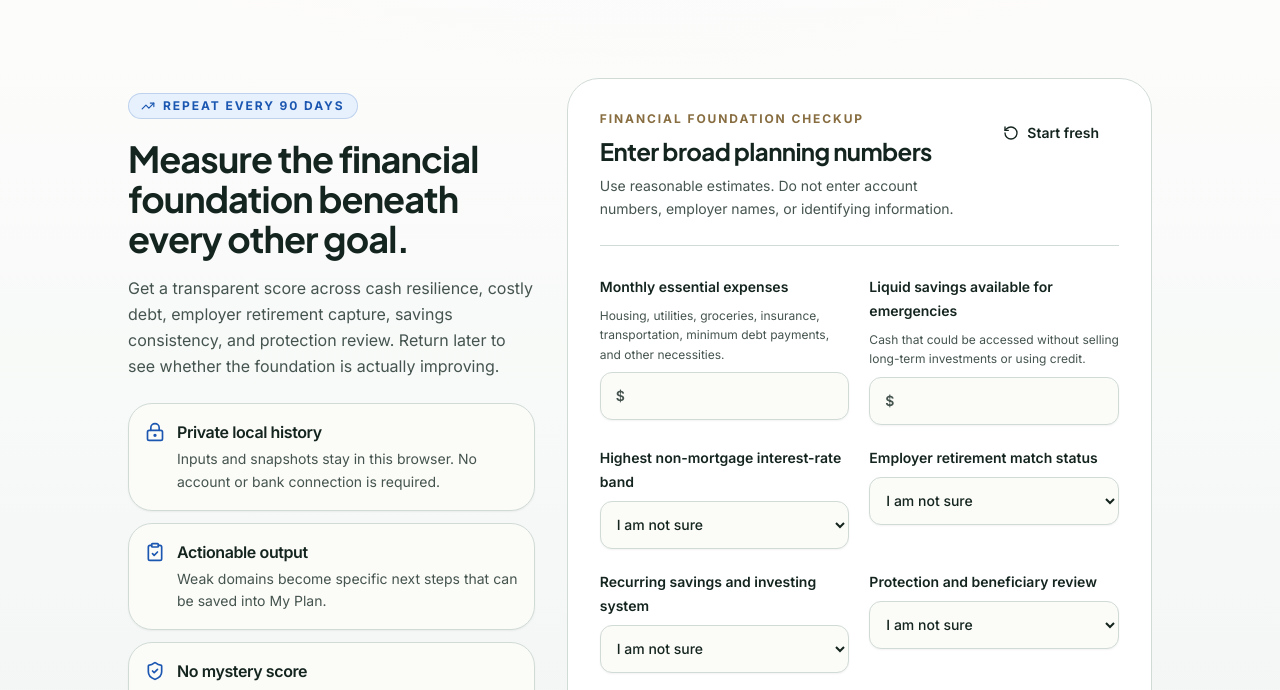
Test: FinancialFoundationCheckup › creates a local baseline with visible domain results and history
In the number field labelled "Monthly essential expenses": coordinates (724, 396) [600,372,849,420], type "4000"
In the number field labelled "Liquid savings available for emergencies": coordinates (994, 400) [869,376,1119,424], type "2000"
Select "Highest rate is above 15%" in the dropdown labelled "Highest non-mortgage interest-rate band": coordinates (724, 524) [600,500,849,548]
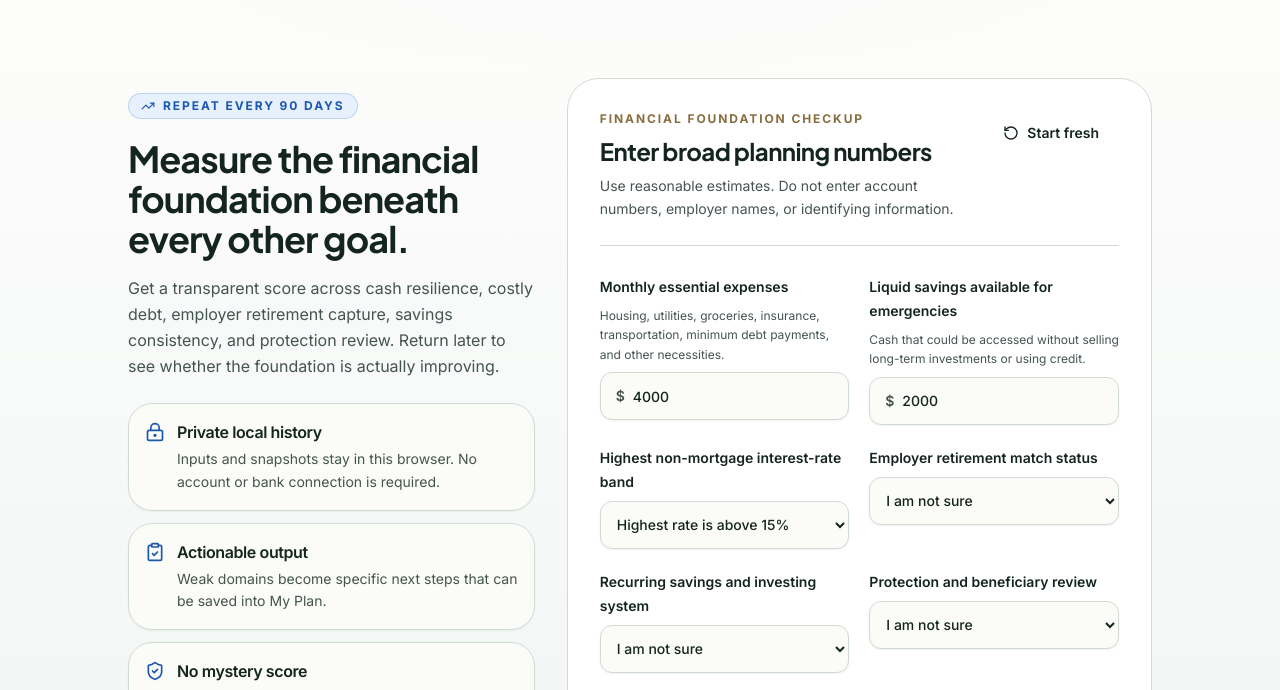
Select "Not contributing" in the dropdown labelled "Employer retirement match status": coordinates (994, 500) [869,476,1119,524]
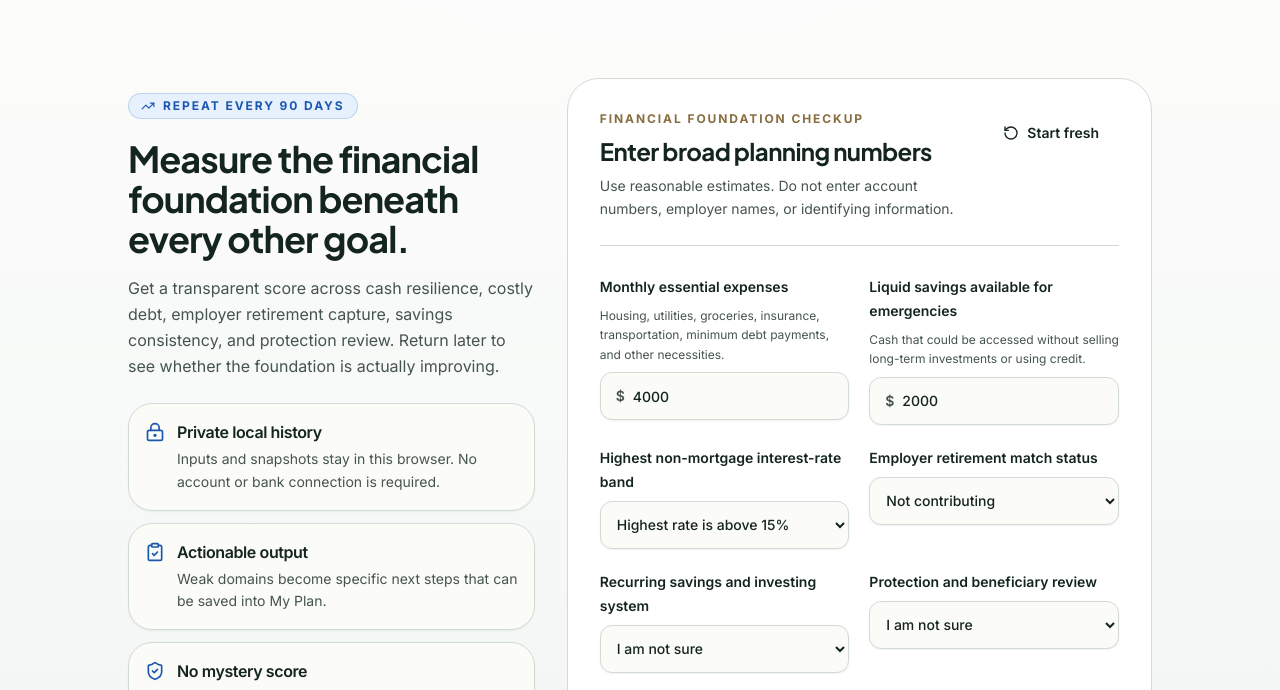
Select "No recurring saving or investing" in the dropdown labelled "Recurring savings and investing system": coordinates (724, 648) [600,624,849,672]
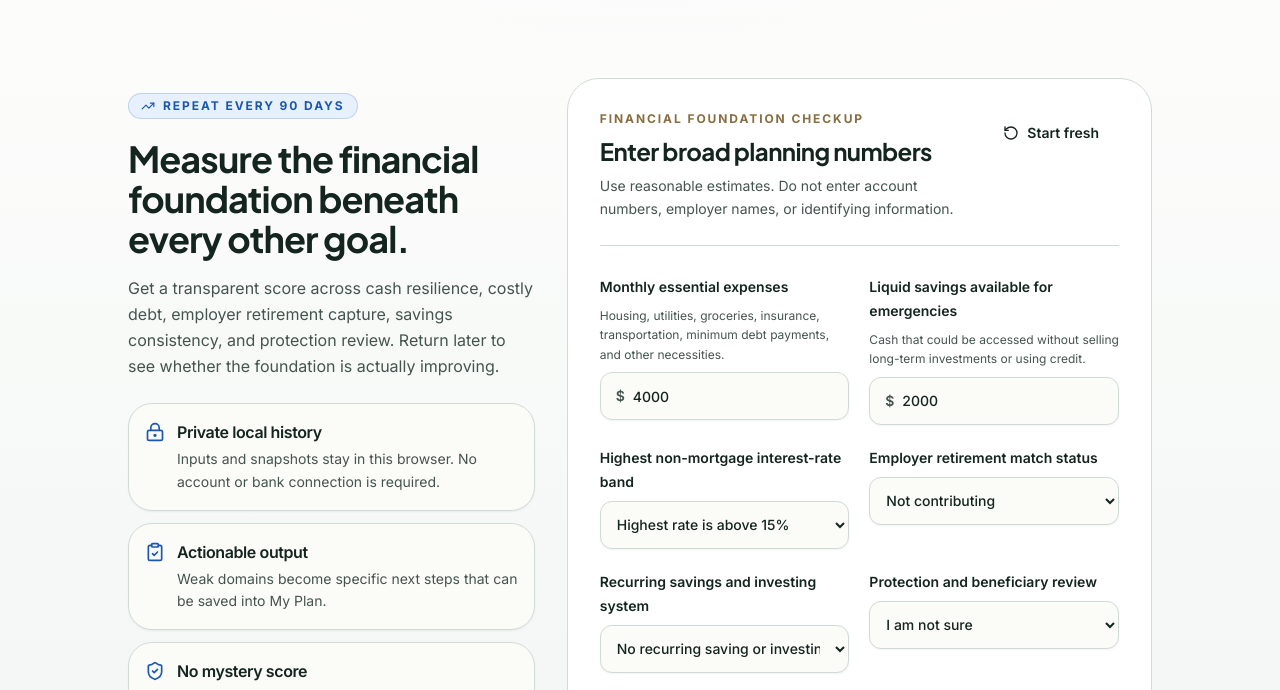
Select "Review is overdue" in the dropdown labelled "Protection and beneficiary review": coordinates (994, 624) [869,600,1119,648]
(page scrolled)
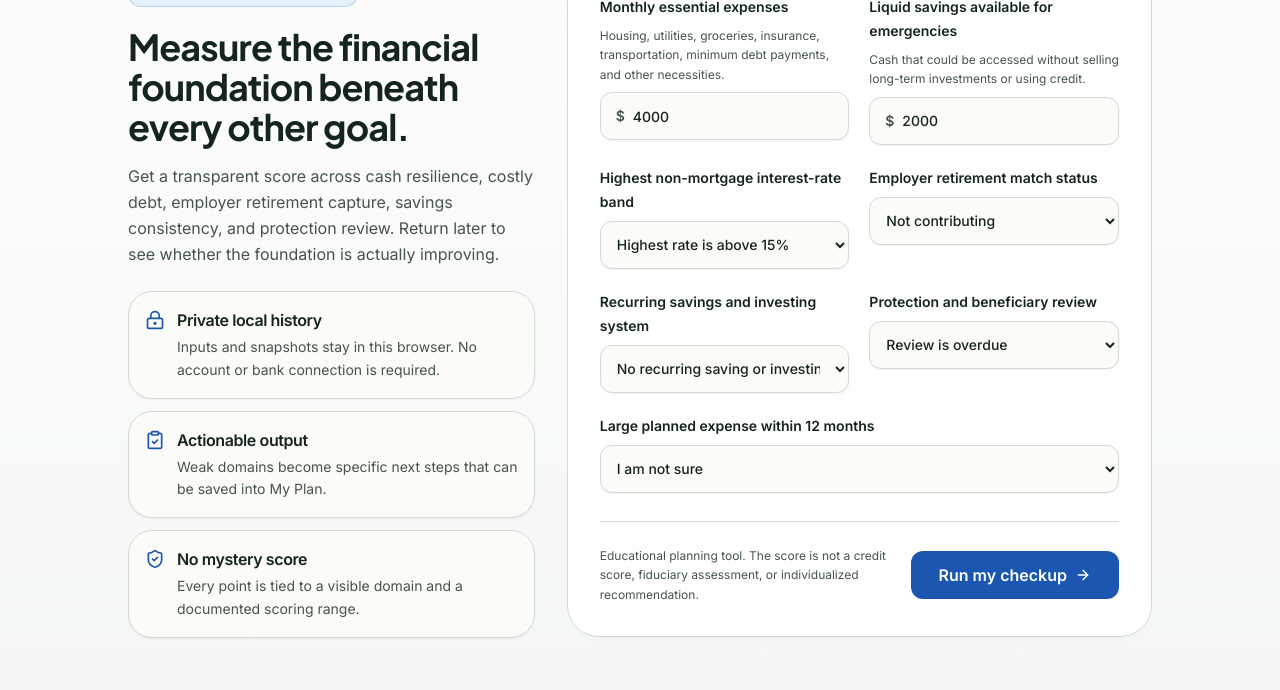
Select "A major expense is not funded" in the dropdown labelled "Large planned expense within 12 months": coordinates (859, 468) [600,444,1119,492]
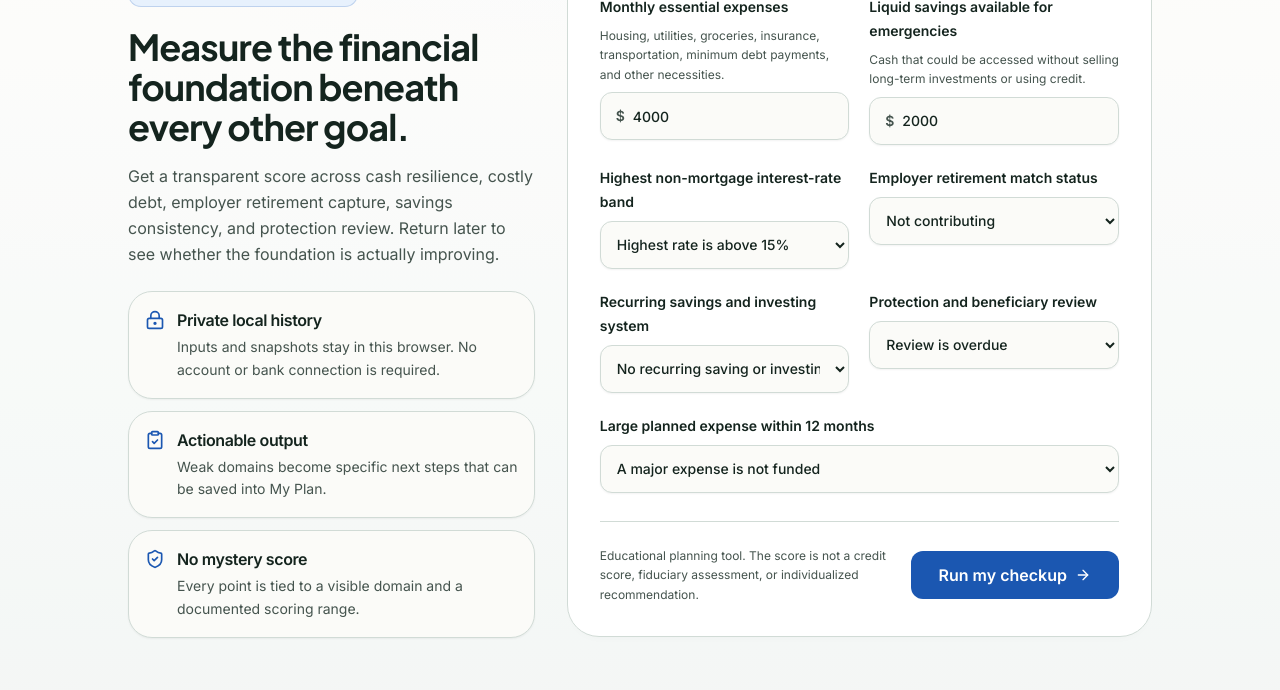
Click the button "Run my checkup": coordinates (1015, 575) [911,551,1119,599]
(page scrolled)
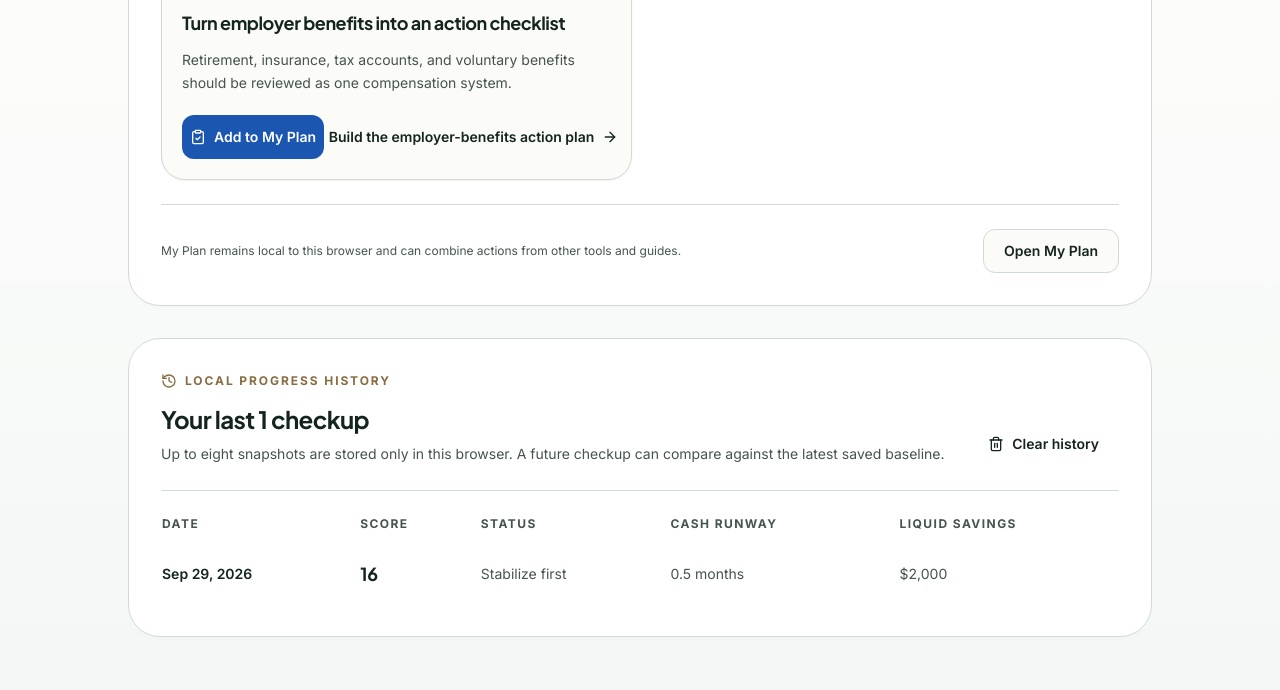
Result: the heading "Your last 1 checkup" is shown at [161,404,369,434]
